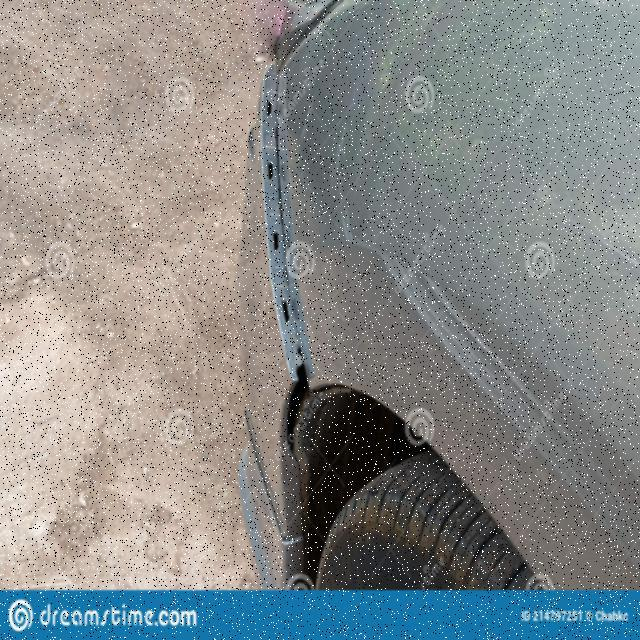front-bumper-dent: (226, 0, 345, 590)
